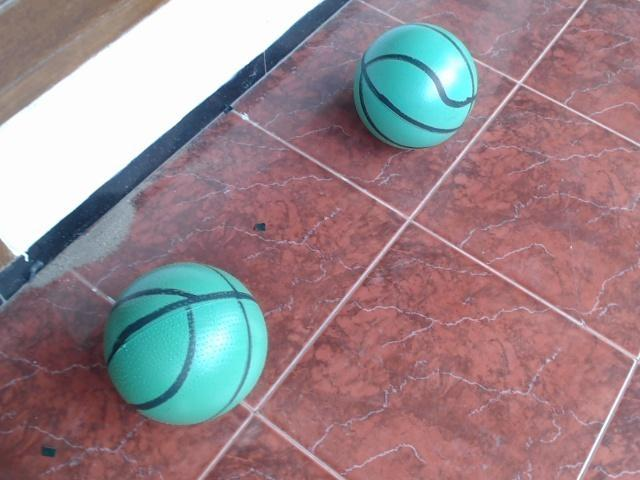Sports-Ball: (95, 257, 270, 430), (355, 14, 480, 155)
